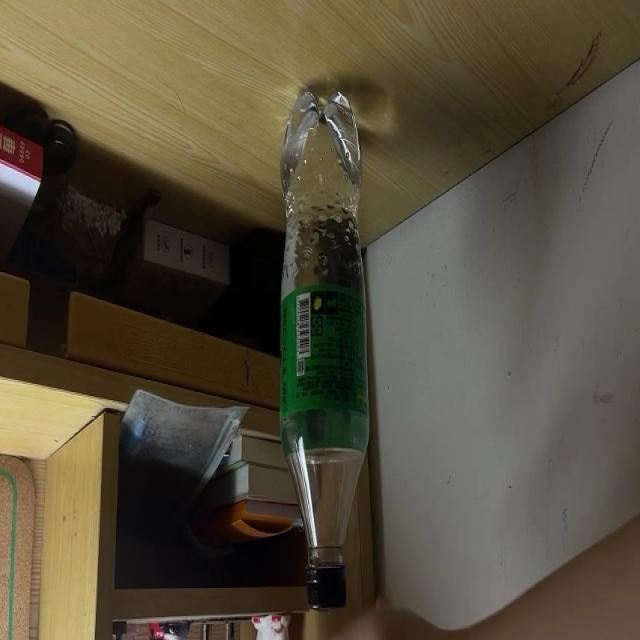Sprite: (279, 84, 373, 612)
